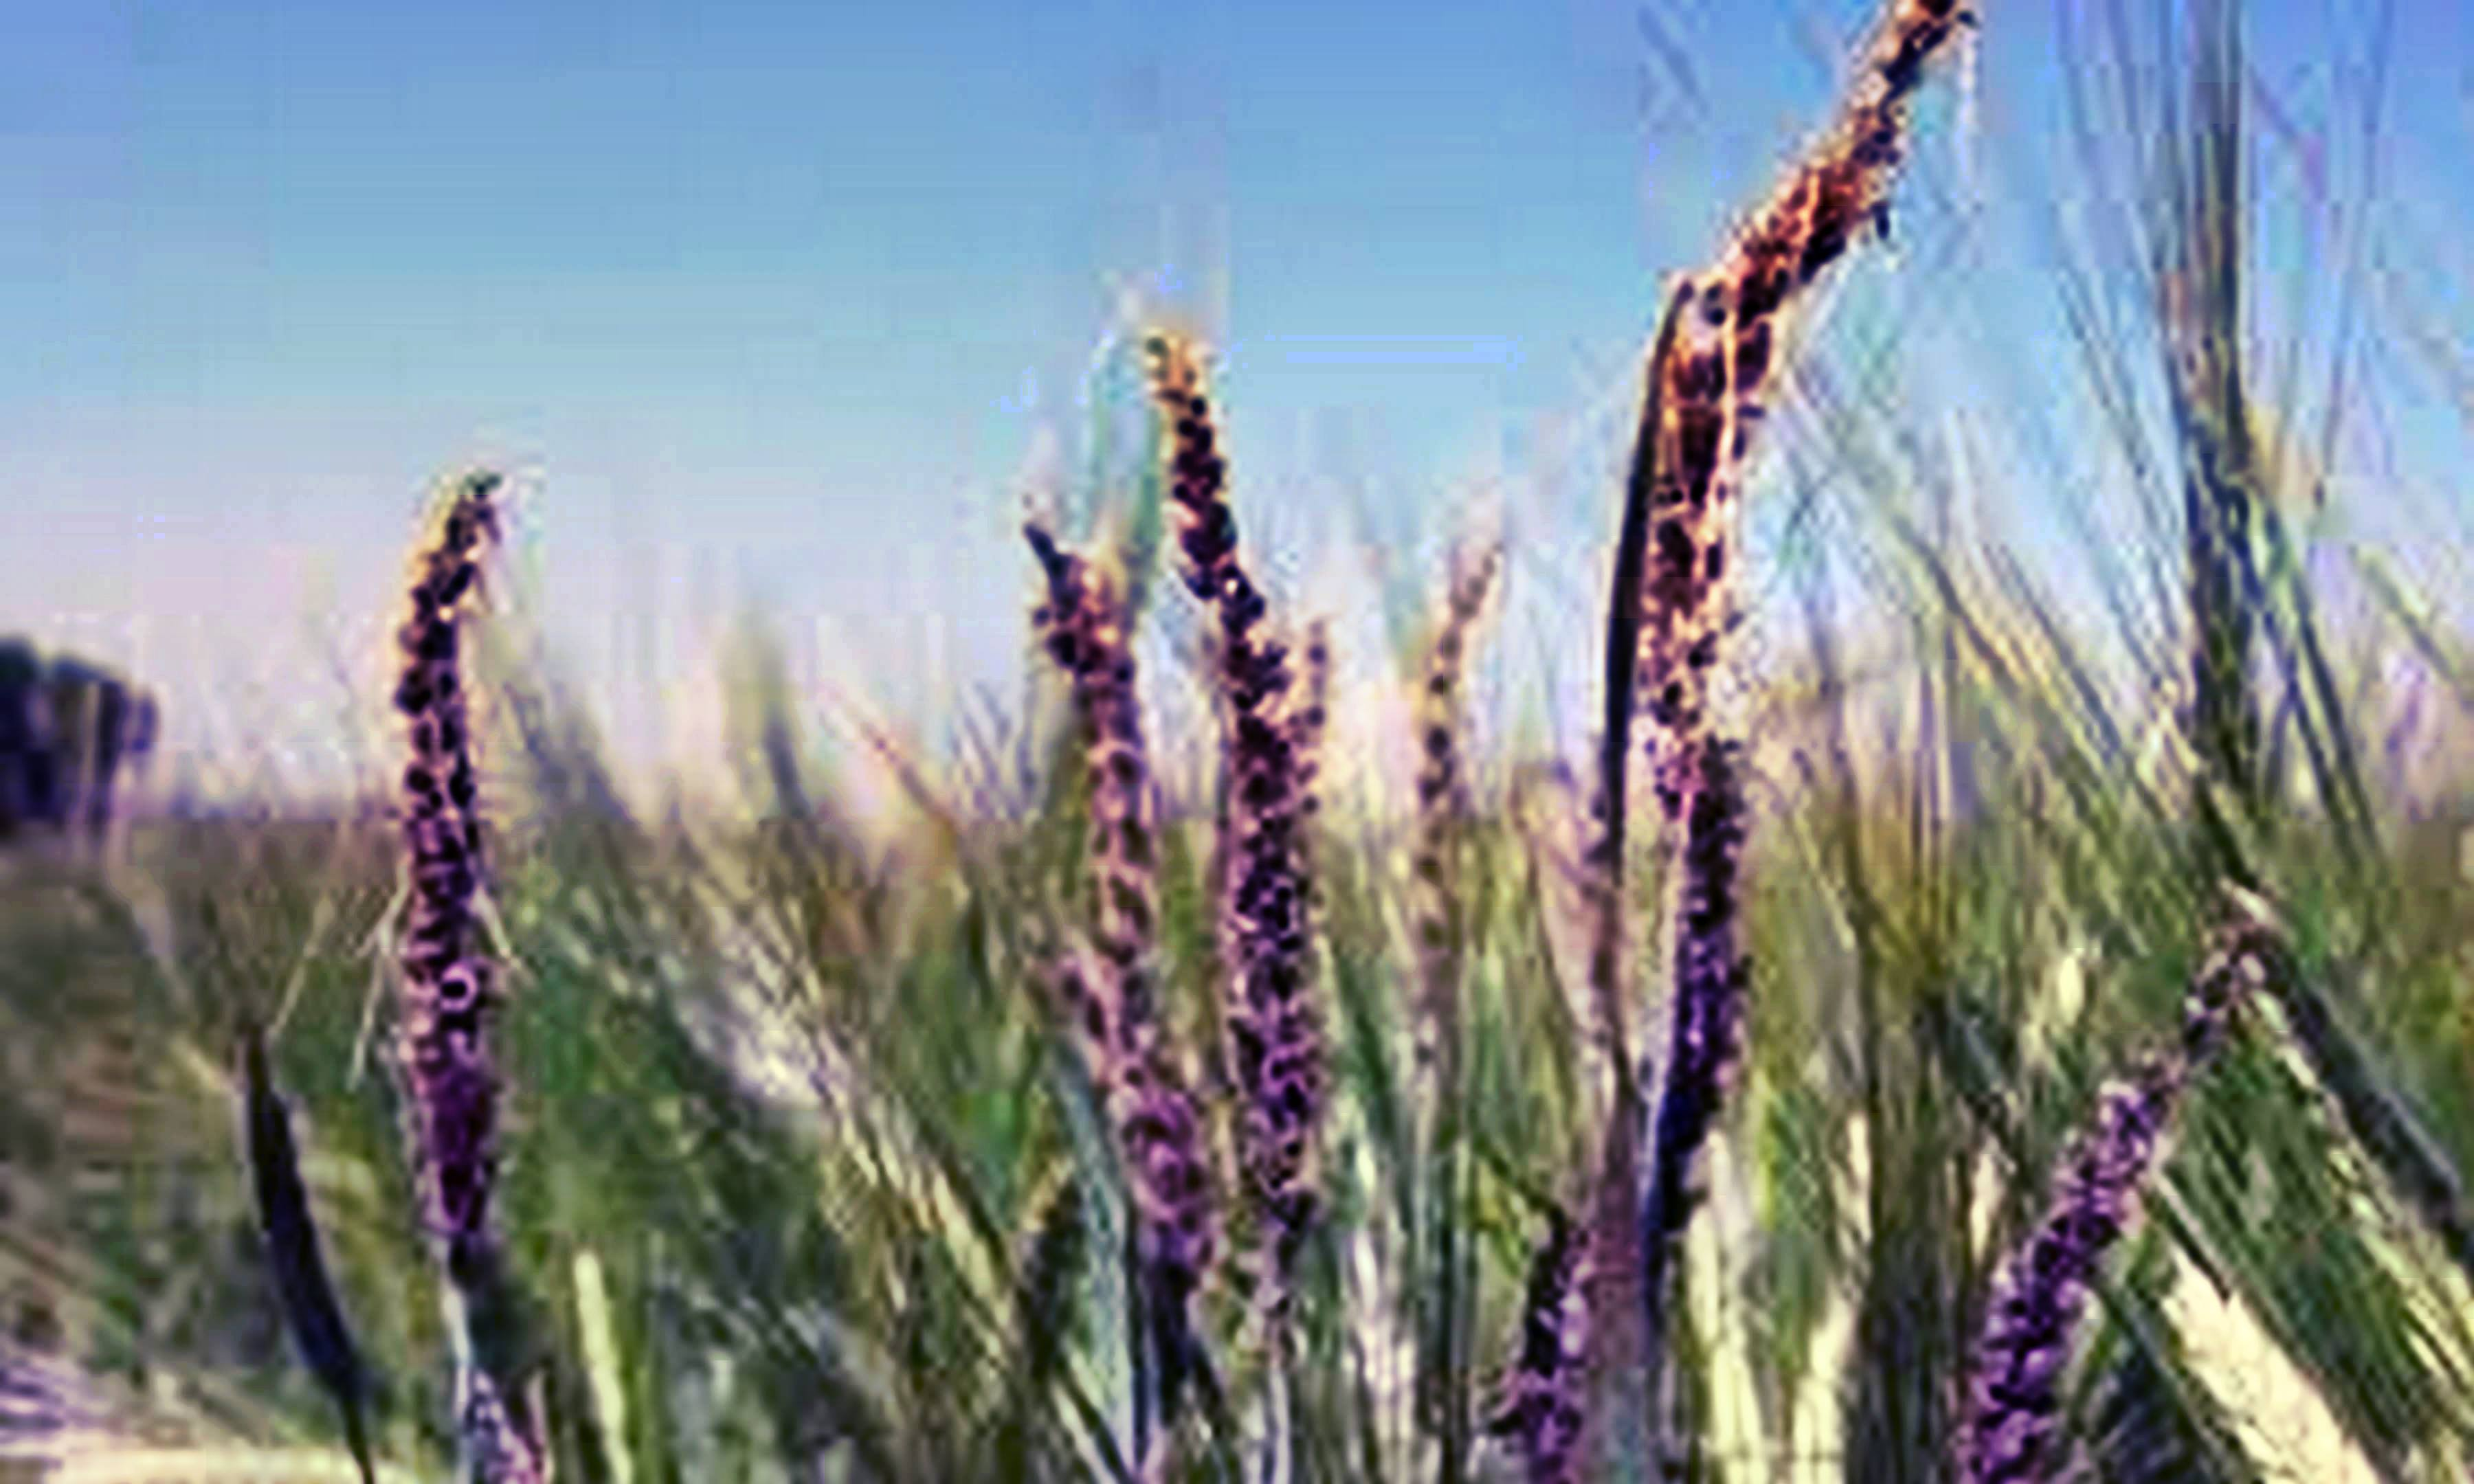Wheat Loose Smut: (967, 290, 1364, 1224)
